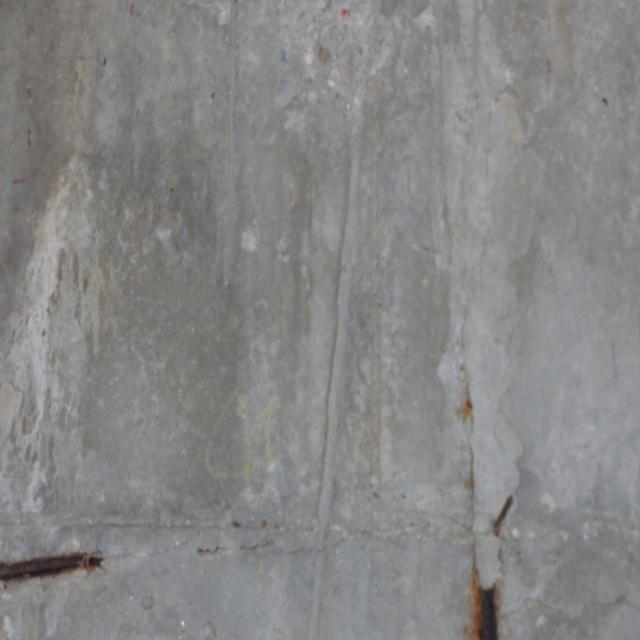corrosion: (445, 352, 542, 640), (0, 526, 126, 598)
